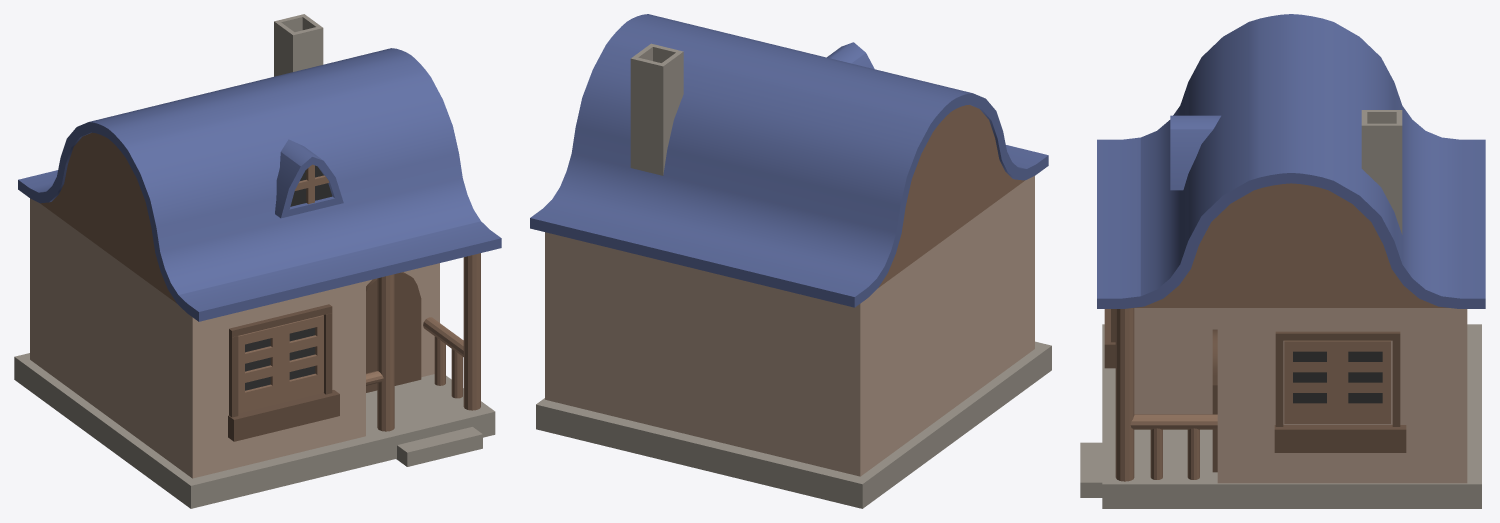
The model's file is house_gamejam_new.fbx.
3 renders of one model, left to right at view 1: azimuth 30°, elevation 25°; view 2: azimuth 150°, elevation 25°; view 3: azimuth 270°, elevation 25°, orthographic. The views are drawn at different scales.
Visible parts, largest first — view 1: roof, house_walls, house_base, roof_wall, window_blinds, door, window_base, pillar5, pillar1, roof_window, chimney, steps (+8 smaller); view 2: house_walls, roof, house_base, roof_wall, chimney, roof_window; view 3: roof, house_walls, roof_wall, house_base, window_blinds, window_base (×2), chimney, pillar5, roof_window, shadow1, pillar2, steps (+6 smaller).
Boxes of the visible parts, left/top/right/bottom form: roof: left=18, top=48, right=501, bottom=321; house_walls: left=30, top=198, right=439, bottom=478; house_base: left=14, top=353, right=495, bottom=508; roof_wall: left=40, top=132, right=176, bottom=303; window_blinds: left=238, top=315, right=323, bottom=413; door: left=366, top=272, right=421, bottom=392; window_base: left=228, top=390, right=339, bottom=441; pillar5: left=463, top=253, right=480, bottom=410; pillar1: left=377, top=274, right=394, bottom=431; roof_window: left=275, top=139, right=343, bottom=218; chimney: left=274, top=14, right=323, bottom=76; steps: left=396, top=427, right=482, bottom=466; house_walls: left=545, top=176, right=1034, bottom=476; roof: left=530, top=14, right=1048, bottom=307; house_base: left=536, top=341, right=1051, bottom=508; roof_wall: left=878, top=104, right=1024, bottom=287; chimney: left=630, top=43, right=683, bottom=175; roof_window: left=827, top=42, right=874, bottom=68; roof: left=1097, top=14, right=1485, bottom=308; house_walls: left=1134, top=308, right=1467, bottom=483; roof_wall: left=1134, top=183, right=1448, bottom=307; house_base: left=1102, top=324, right=1481, bottom=508; window_blinds: left=1284, top=340, right=1390, bottom=423; window_base (×2): left=1104, top=309, right=1406, bottom=452; chimney: left=1361, top=110, right=1402, bottom=234; pillar5: left=1115, top=308, right=1134, bottom=481; roof_window: left=1170, top=115, right=1220, bottom=190; shadow1: left=1293, top=351, right=1382, bottom=403; pillar2: left=1130, top=414, right=1217, bottom=429; steps: left=1080, top=442, right=1102, bottom=497.
Size of the model in its own units: 14.91 by 15.18 by 15.62.
